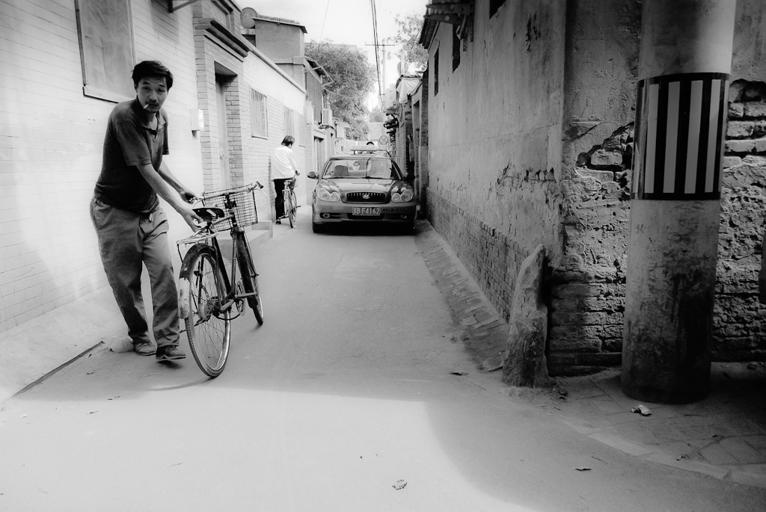non-vehicle: (173, 180, 266, 378), (276, 169, 302, 232)
